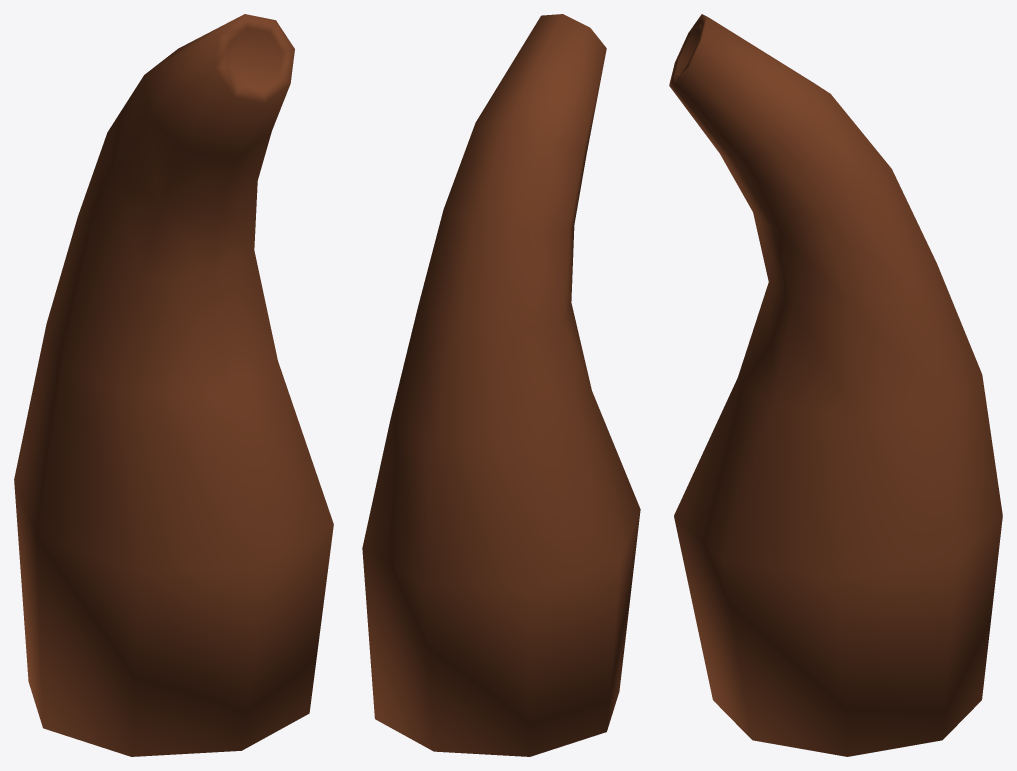
The model's file is rpgpp_ag_alchemy_bottle_02b.fbx.
3 renders of one model, left to right at view 1: azimuth 30°, elevation 25°; view 2: azimuth 150°, elevation 25°; view 3: azimuth 270°, elevation 25°, orthographic. The views are drawn at different scales.
Visible parts, largest first — view 1: rpgpp_ag_alchemy_bottle_02b; view 2: rpgpp_ag_alchemy_bottle_02b; view 3: rpgpp_ag_alchemy_bottle_02b.
Part boxes in pixels (box(x1,y1,x2,y2)): rpgpp_ag_alchemy_bottle_02b: box(14, 14, 333, 756); rpgpp_ag_alchemy_bottle_02b: box(362, 14, 640, 756); rpgpp_ag_alchemy_bottle_02b: box(669, 14, 1002, 756).
Bounding box in the file's own units: 0.101 × 0.2599 × 0.115.
